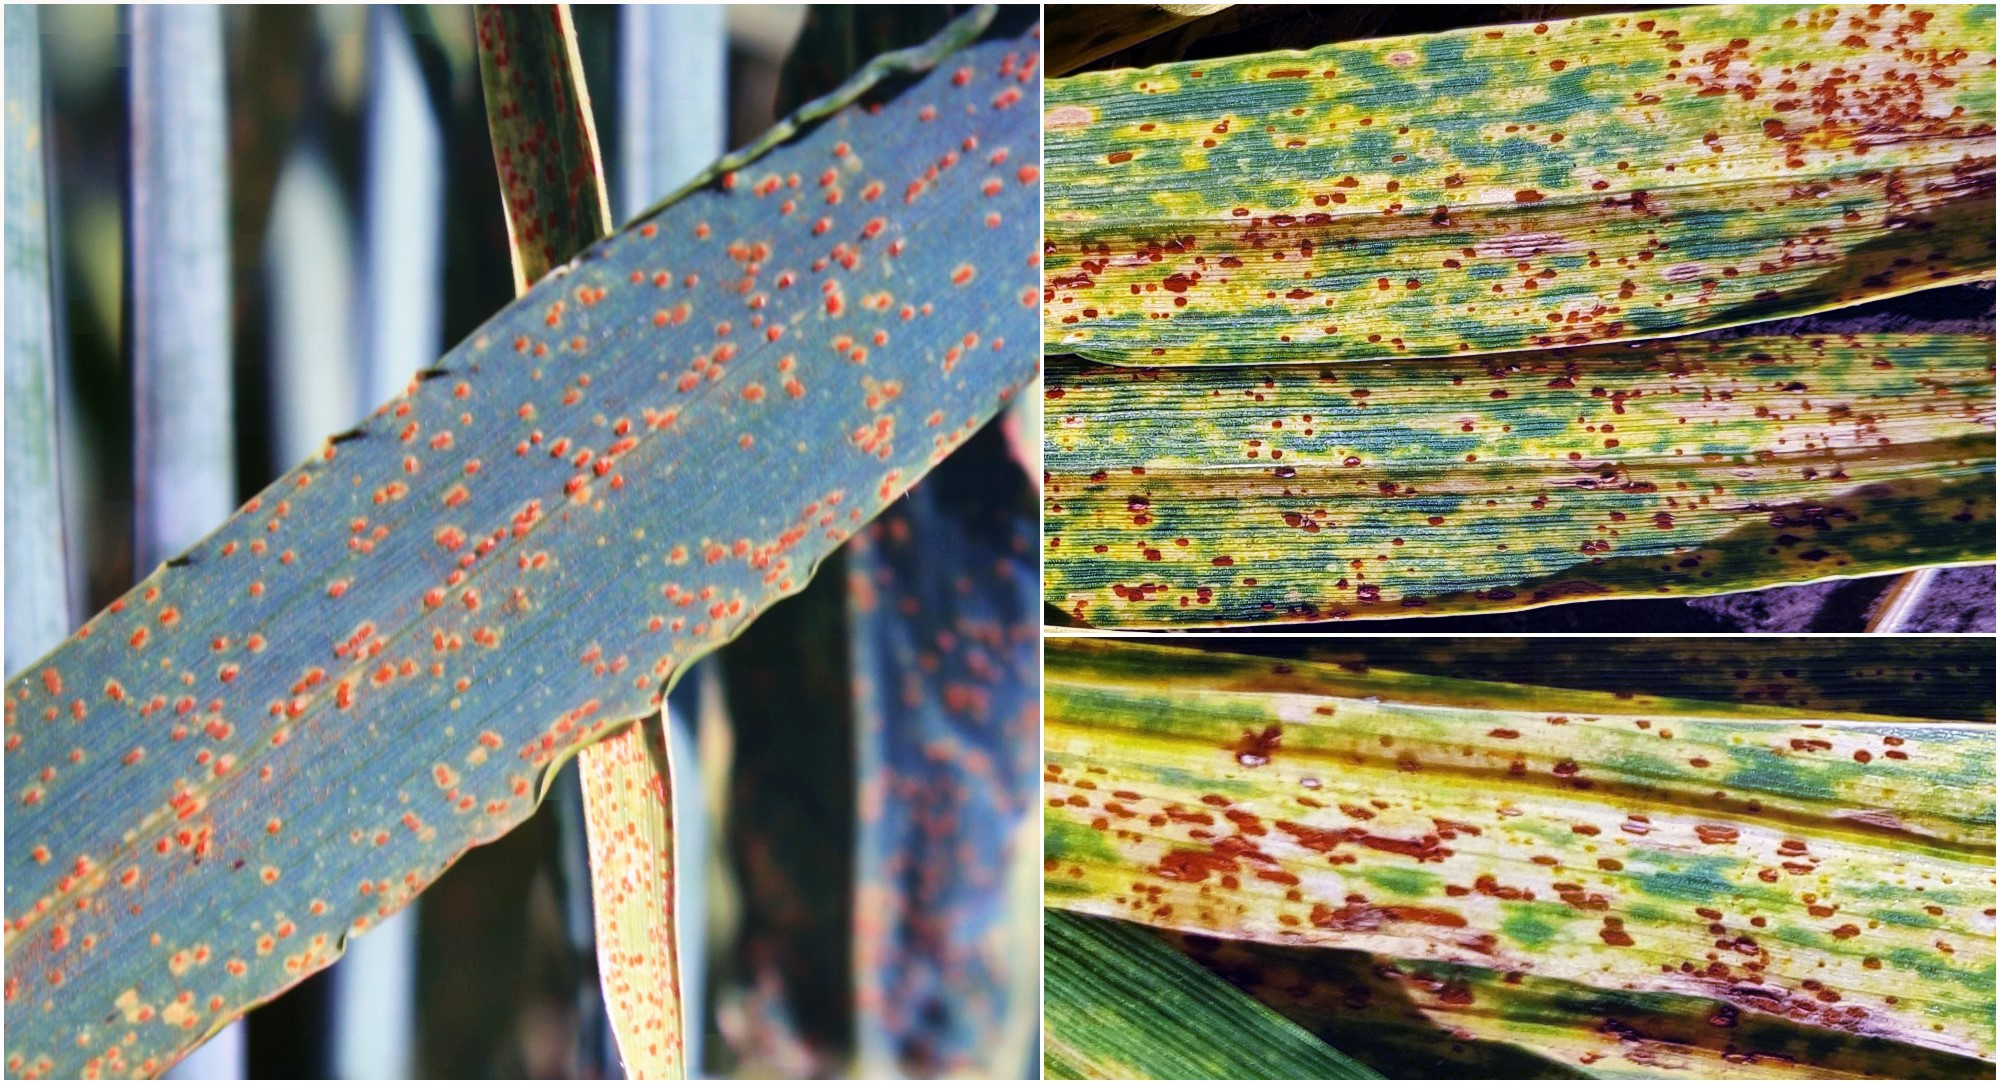Leaf Rust: (80, 123, 969, 975), (1107, 665, 1961, 1029), (1047, 24, 1955, 348), (1093, 360, 1959, 611)
